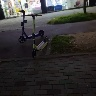beam: (14, 7, 44, 42)
gcooter: (23, 13, 50, 58)
